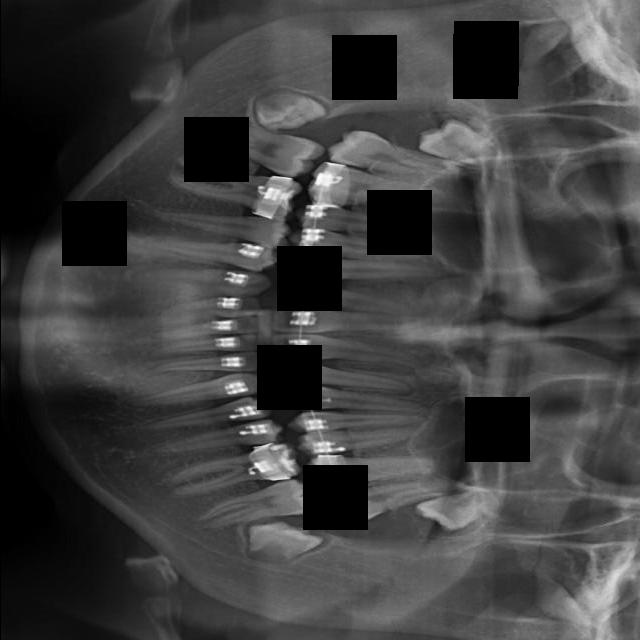3M ESPE Implant: (414, 110, 510, 174)
AGS Medikal Implant: (188, 475, 321, 535)
AMerOss Implant: (163, 438, 303, 498)
Amalgam filling: (325, 123, 471, 190)
Anthogyr Implant: (147, 416, 286, 461)
Bicon Implant: (134, 393, 276, 432)
BioHorizons Implant: (120, 369, 268, 411)
BioLife Implant: (142, 350, 264, 379)
Biomet 3i Implant: (147, 333, 260, 356)
Blue Sky Bio Implant: (149, 316, 260, 342)
Camlog Implant: (148, 291, 262, 330)
Caries: (280, 360, 414, 392)
Composite filling: (132, 265, 272, 298)
Cowellmedi Implant: (145, 221, 284, 276)
Crown: (138, 203, 294, 251)
DENTSPLY Implant: (305, 160, 435, 218)
Dentatus Implant: (162, 152, 304, 222)
Dentis Implant: (207, 127, 208, 128)
Dentium Implant: (251, 85, 327, 131)
Euroteknika Implant: (293, 201, 430, 243)
Filling: (291, 227, 428, 270)
Frontier Implant: (279, 253, 447, 292)
Hiossen Implant: (280, 384, 426, 412)
Implant: (268, 304, 434, 338)
Implant Direct: (279, 281, 412, 315)
Keystone Dental Implant: (267, 331, 426, 371)
MIS Implant: (285, 404, 422, 433)
Mandible: (295, 420, 429, 458)
Maxilla: (302, 442, 439, 495)
Megagen Implant: (319, 473, 461, 529)
Neodent Implant: (412, 482, 503, 541)
Neoss Implant: (245, 521, 324, 563)
